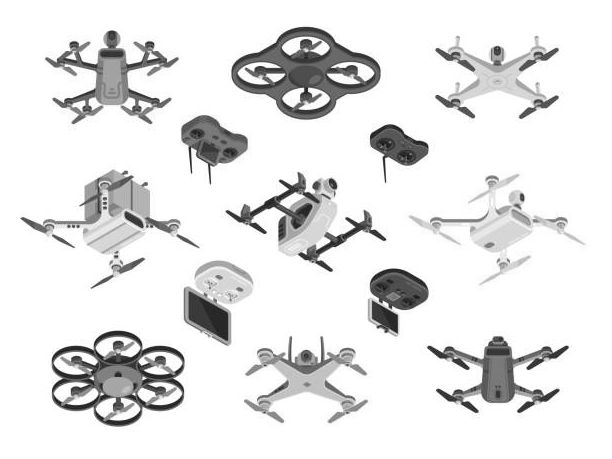Drone: (17, 165, 200, 280), (410, 173, 586, 288), (224, 168, 388, 273), (229, 22, 381, 121), (49, 326, 185, 426), (44, 28, 179, 124), (425, 331, 570, 415), (244, 331, 370, 426), (433, 31, 562, 123)
